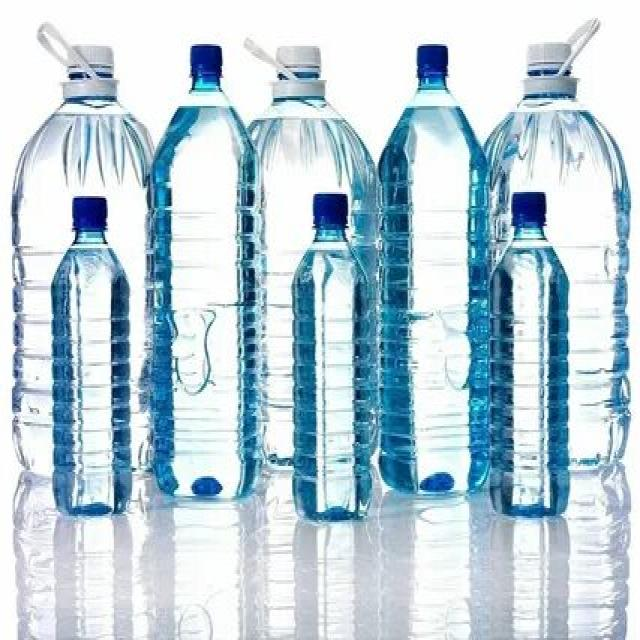blue: (151, 72, 260, 503), (382, 78, 491, 495), (292, 230, 373, 523), (50, 230, 131, 515), (494, 226, 570, 516)
